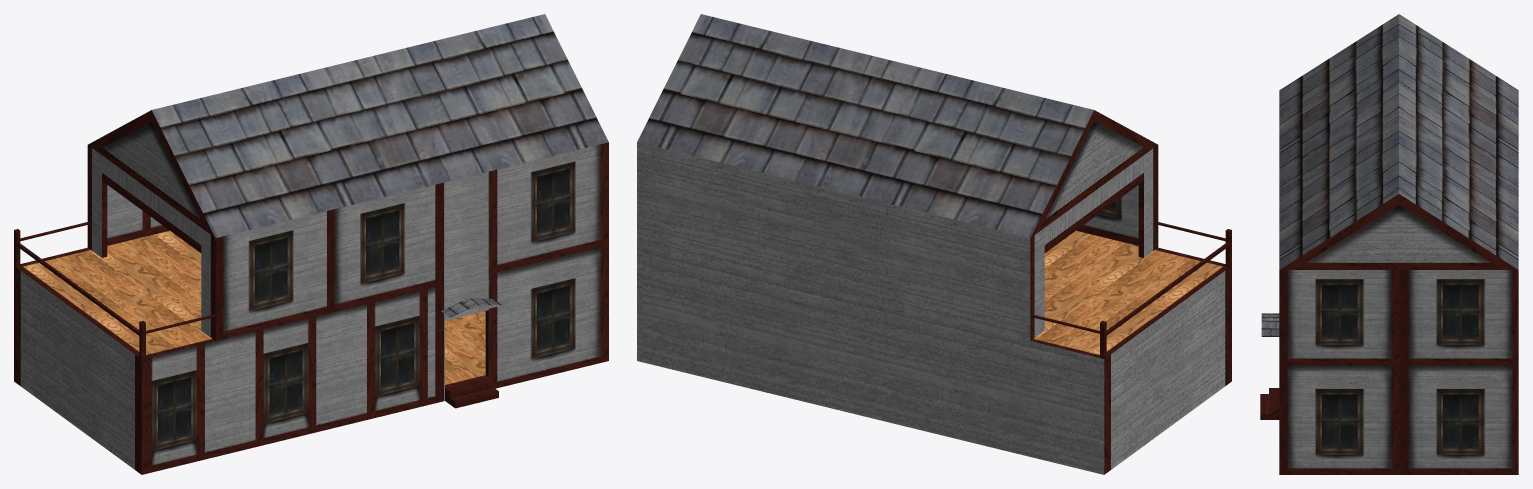
The model's file is houseB.gltf.
The picture shows the model from 3 angles, left to right: view 1: azimuth 30°, elevation 25°; view 2: azimuth 150°, elevation 25°; view 3: azimuth 270°, elevation 25°; orthographic projection. The views are drawn at different scales.
Visible parts, largest first — view 1: houseB; view 2: houseB; view 3: houseB.
Part boxes in pixels (x1=…): houseB: x1=14, y1=14, x2=608, y2=474; houseB: x1=637, y1=14, x2=1231, y2=474; houseB: x1=1260, y1=14, x2=1518, y2=474.
Size of the model in its own units: 21.38 by 13.12 by 10.94.
20 materials, 20 textured.
